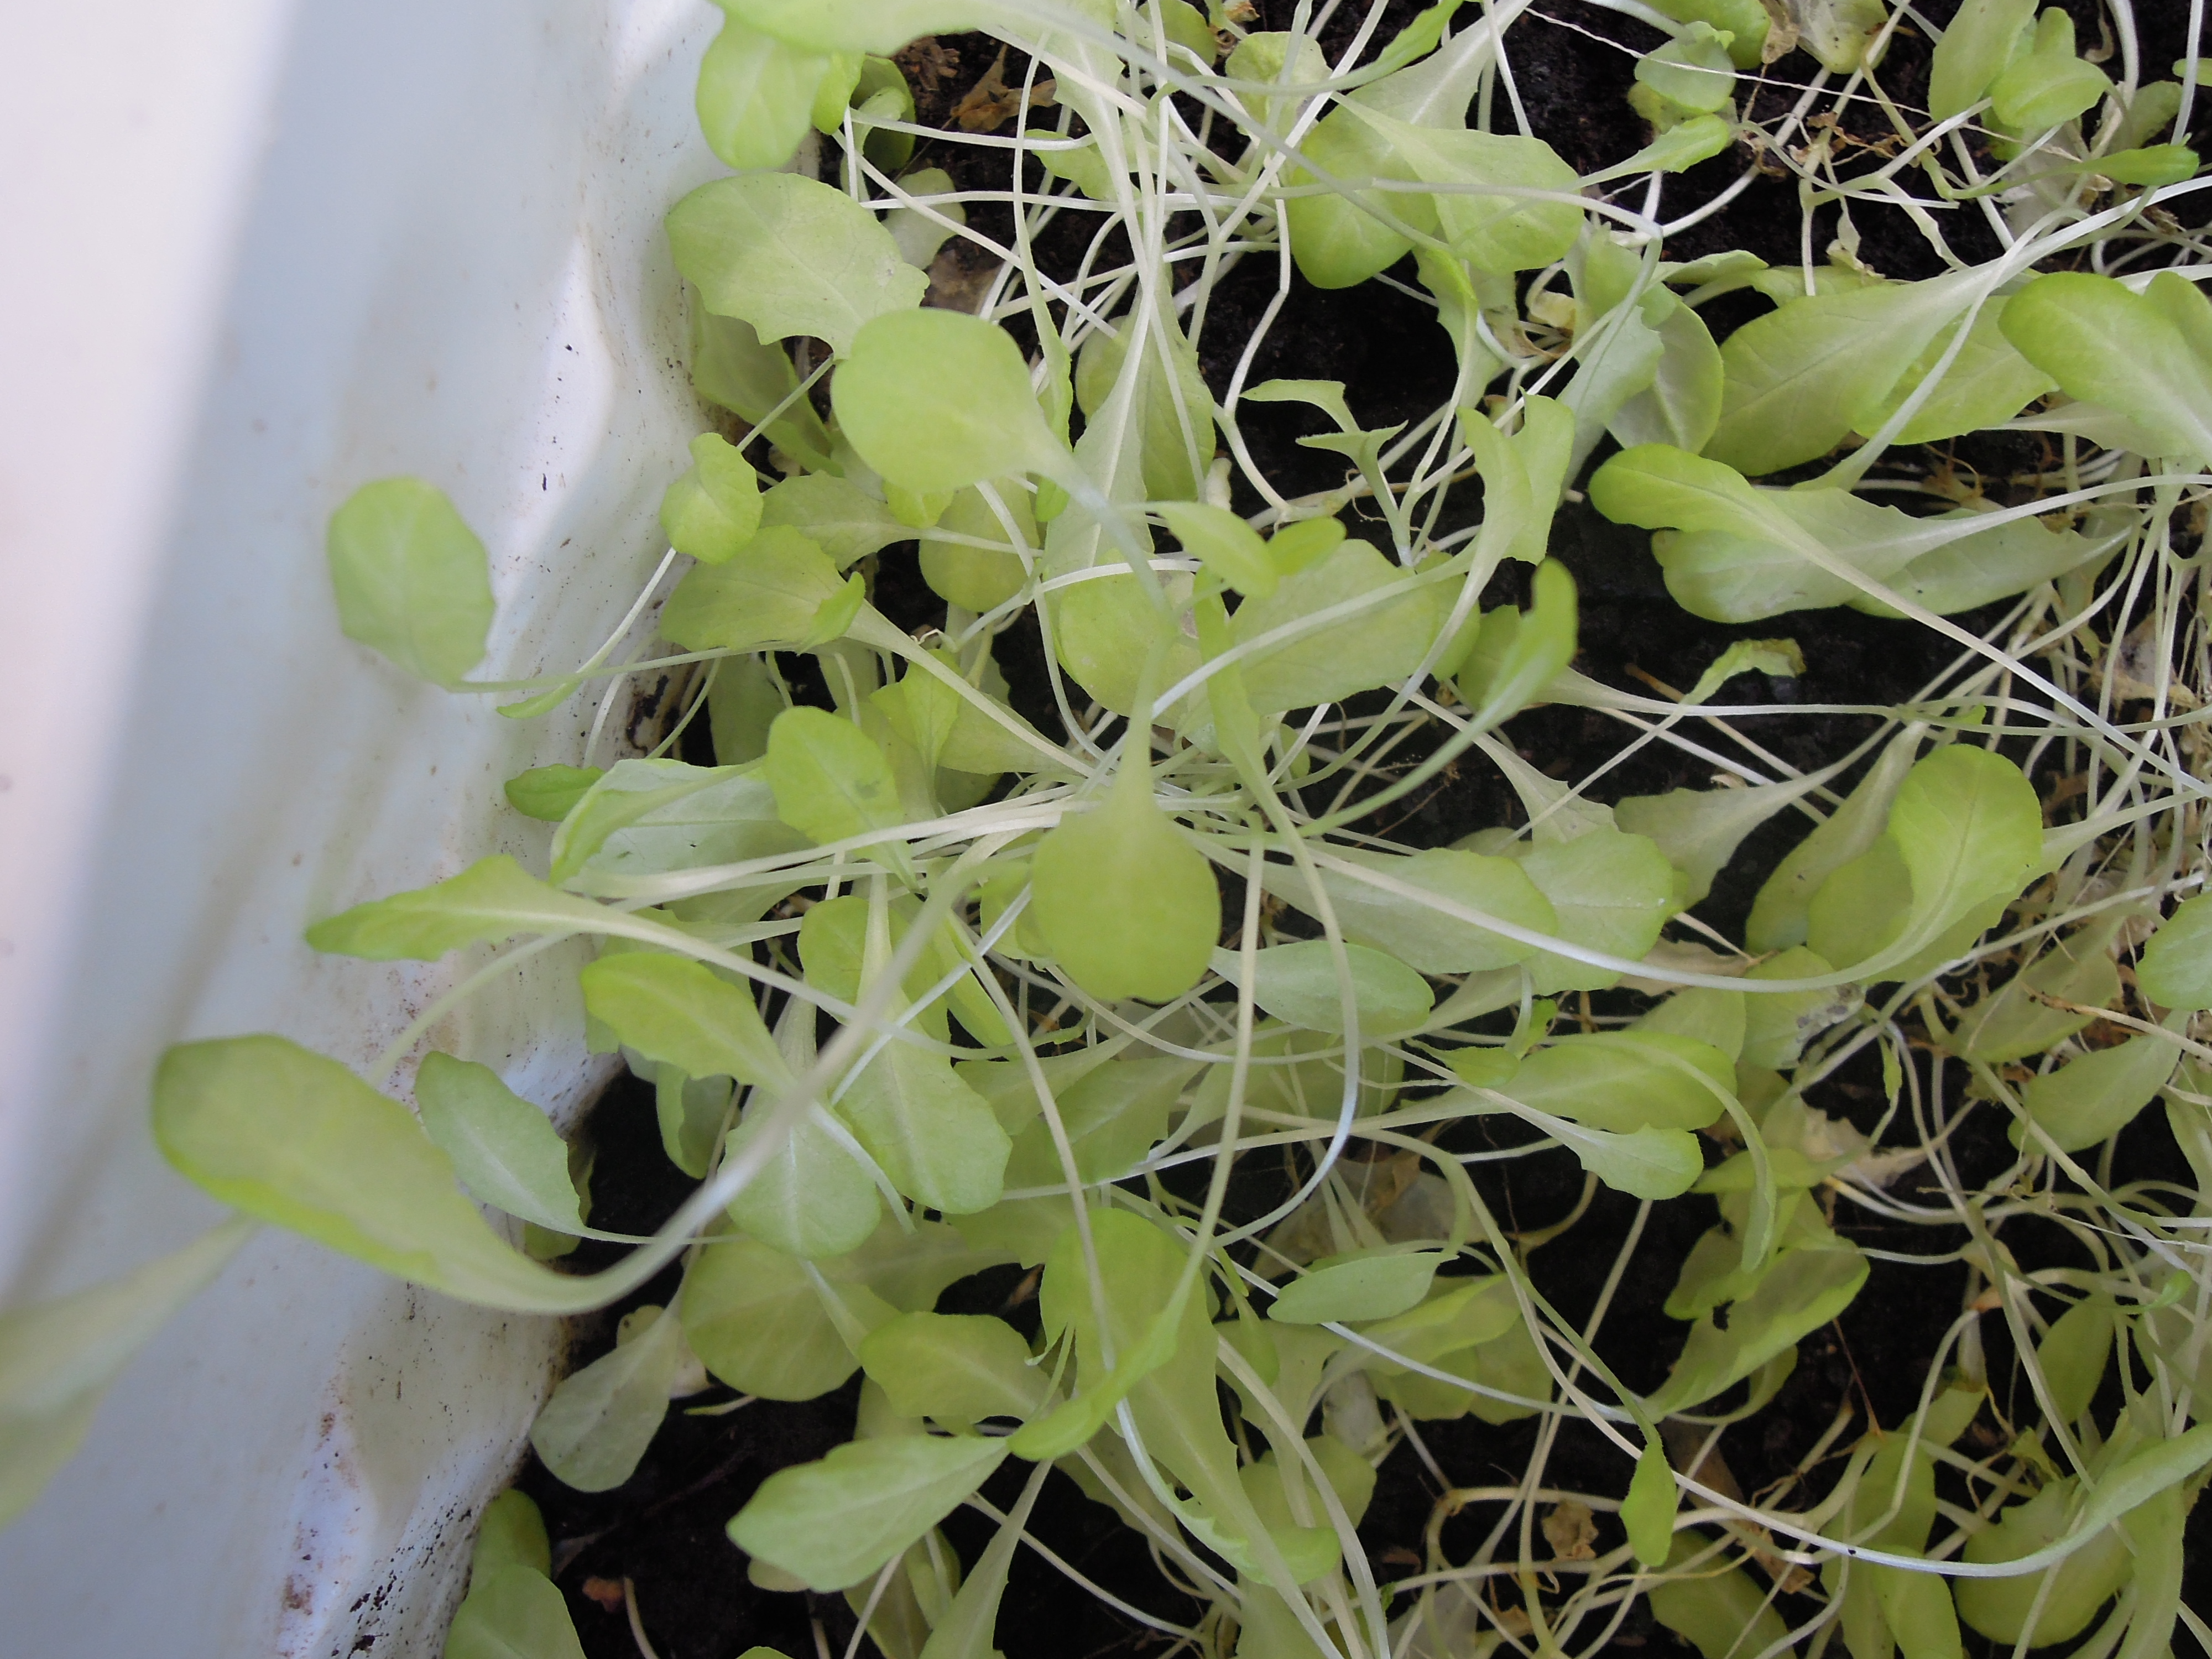weeek6: (132, 23, 2064, 1532)
